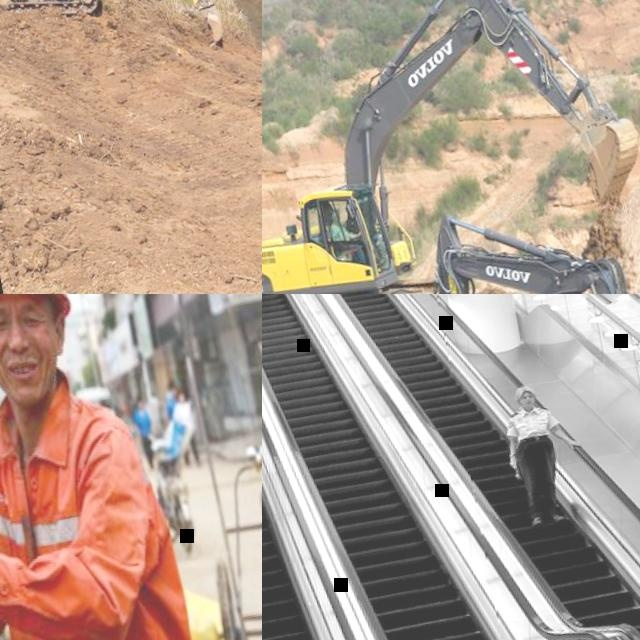NO-Hardhat: (514, 385, 535, 399), (331, 208, 341, 219), (167, 381, 176, 390), (137, 397, 144, 403), (178, 389, 184, 395)
NO-Mask: (0, 338, 63, 406), (521, 396, 536, 408)
NO-Safety Vest: (132, 395, 160, 468), (513, 406, 553, 442), (147, 400, 164, 427), (137, 412, 153, 436), (178, 401, 194, 424), (166, 397, 178, 419)
Person: (0, 294, 219, 640), (495, 378, 594, 530), (171, 386, 205, 470), (327, 205, 368, 269), (143, 388, 169, 437), (162, 381, 183, 423)
Safety Vest: (0, 350, 213, 640), (330, 222, 350, 244)
machinery: (262, 0, 640, 294), (392, 148, 640, 294), (0, 0, 228, 90)
